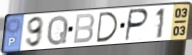1: (155, 7, 167, 39)
9: (23, 16, 45, 49)
B: (72, 12, 96, 45)
D: (96, 11, 120, 44)
P: (124, 8, 150, 43)
Q: (46, 14, 70, 47)
